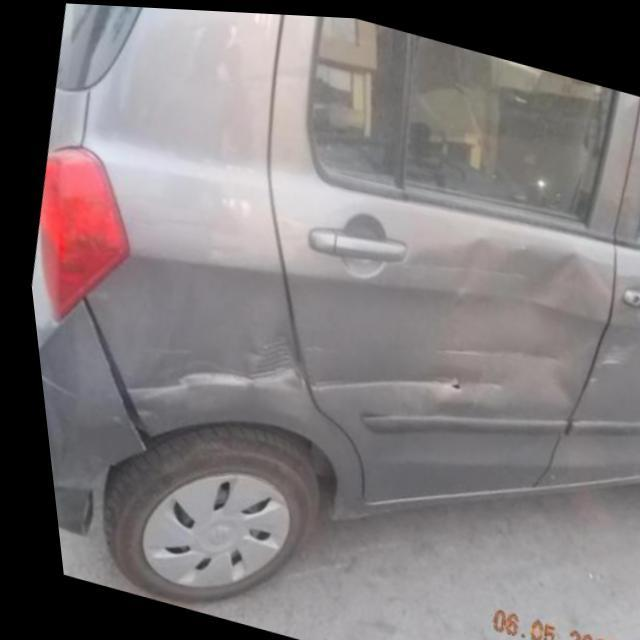crack: (439, 369, 460, 391)
dent: (117, 355, 244, 419), (529, 246, 587, 311), (304, 372, 433, 393), (428, 340, 556, 361), (449, 234, 490, 286), (392, 371, 438, 413), (464, 362, 502, 403)
dislocated part: (73, 293, 147, 455)
rub: (242, 332, 283, 377)
scratch: (590, 339, 624, 360)
